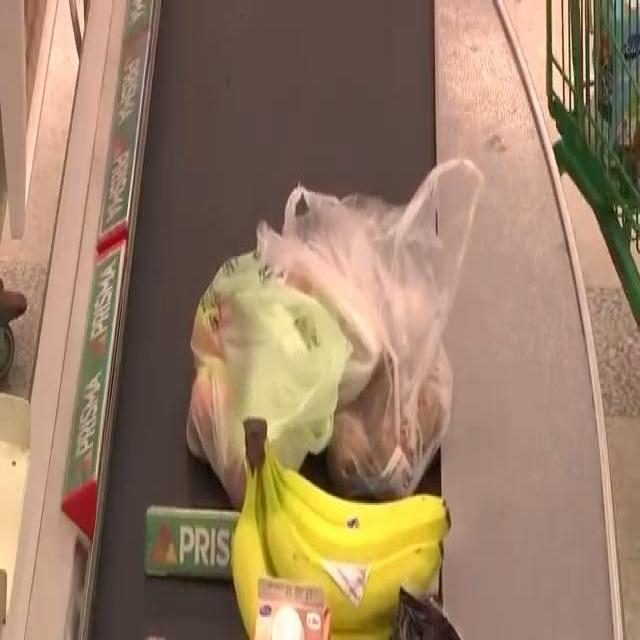beverage: (254, 570, 335, 640)
fruit: (232, 471, 460, 631)
vegetable: (311, 214, 454, 488), (191, 267, 334, 501)
